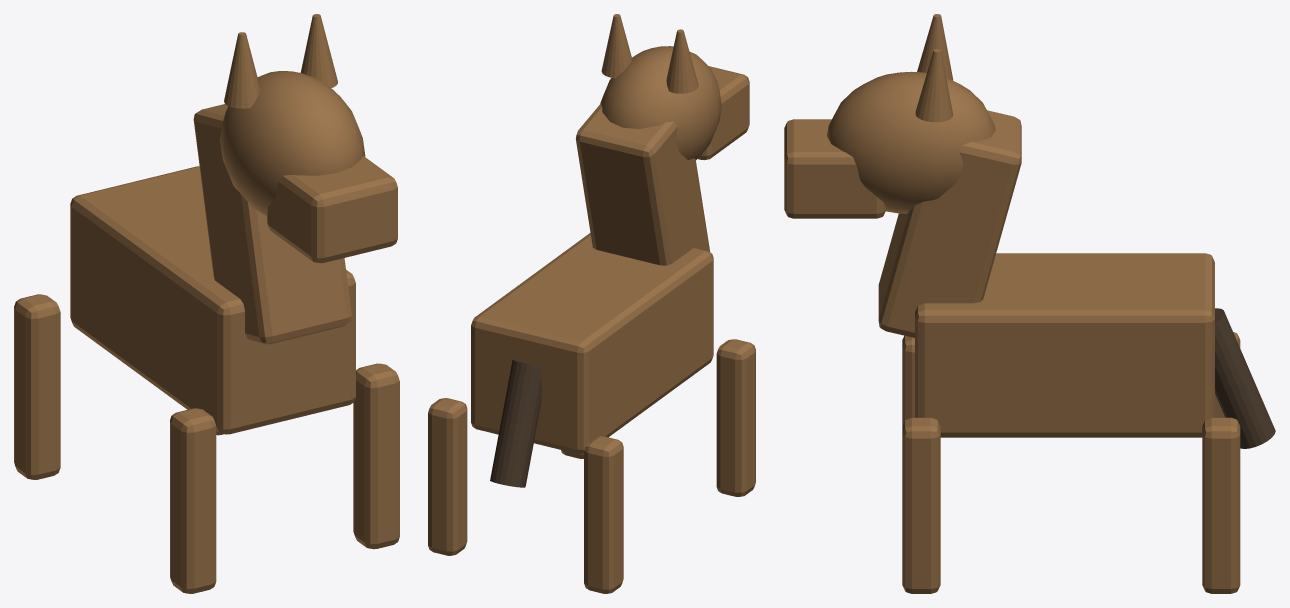
Rendered from better.glb.
The picture shows the model from 3 angles, left to right: view 1: azimuth 30°, elevation 25°; view 2: azimuth 150°, elevation 25°; view 3: azimuth 270°, elevation 25°; orthographic projection. The views are drawn at different scales.
Visible parts, largest first — view 1: Ear; view 2: Ear, Tail; view 3: Ear, Tail.
Boxes of the visible parts, x1,y1,x2,y2 form: Ear: [14, 14, 399, 593]; Ear: [428, 14, 755, 593]; Tail: [490, 359, 541, 487]; Ear: [784, 14, 1240, 593]; Tail: [1215, 308, 1275, 448].
Size of the model in its own units: 0.475 by 1.11 by 0.9628.
